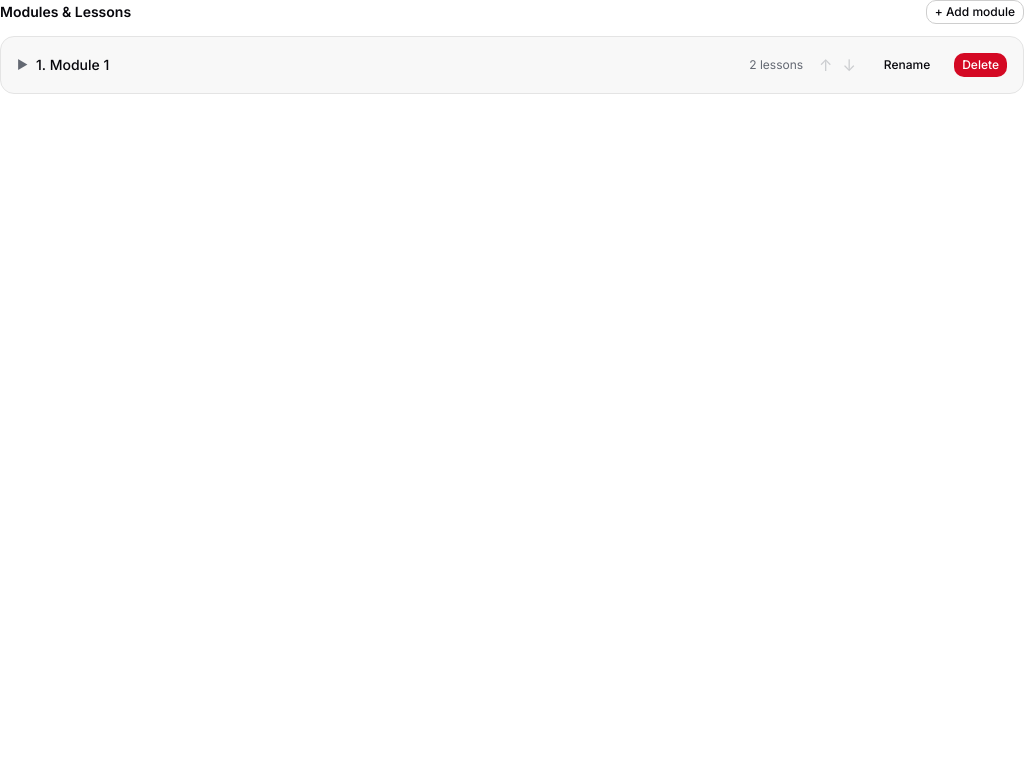
ModuleManager — existing modules › opens an edit form for a lesson when Edit is clicked
Click the text "1. Module 1" at (73, 64), box [36,56,109,73]
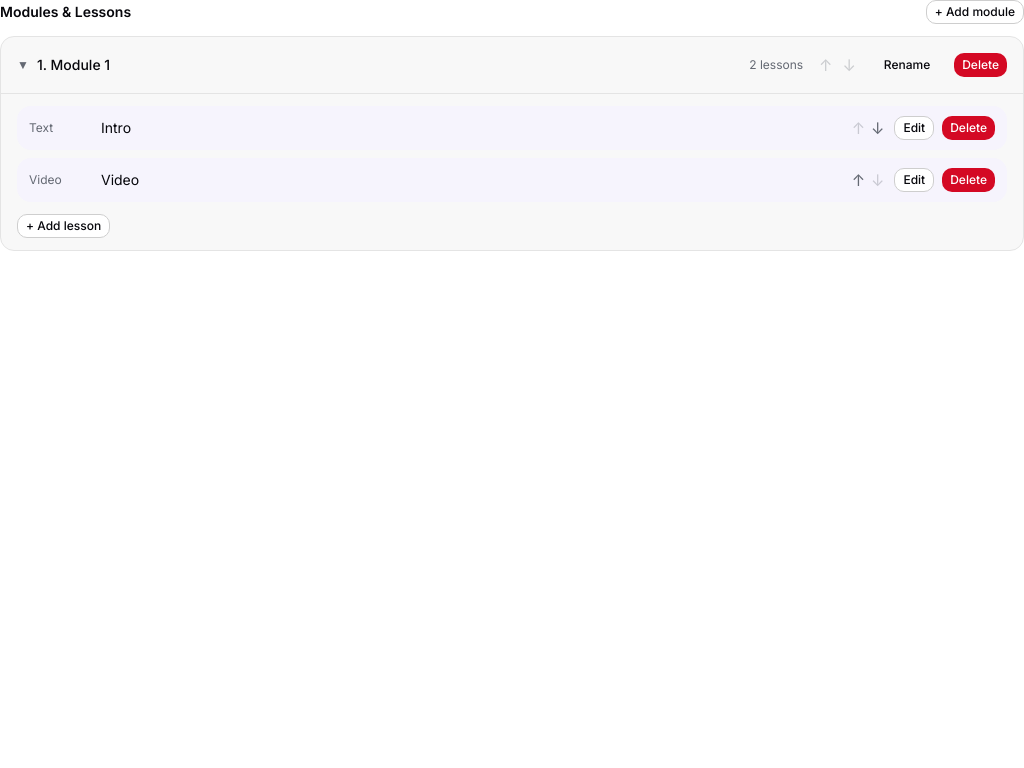
Click the edit affordance for the first lesson.
Click the button "Edit" in the row of "Intro" at (914, 128), box [894,116,934,140]
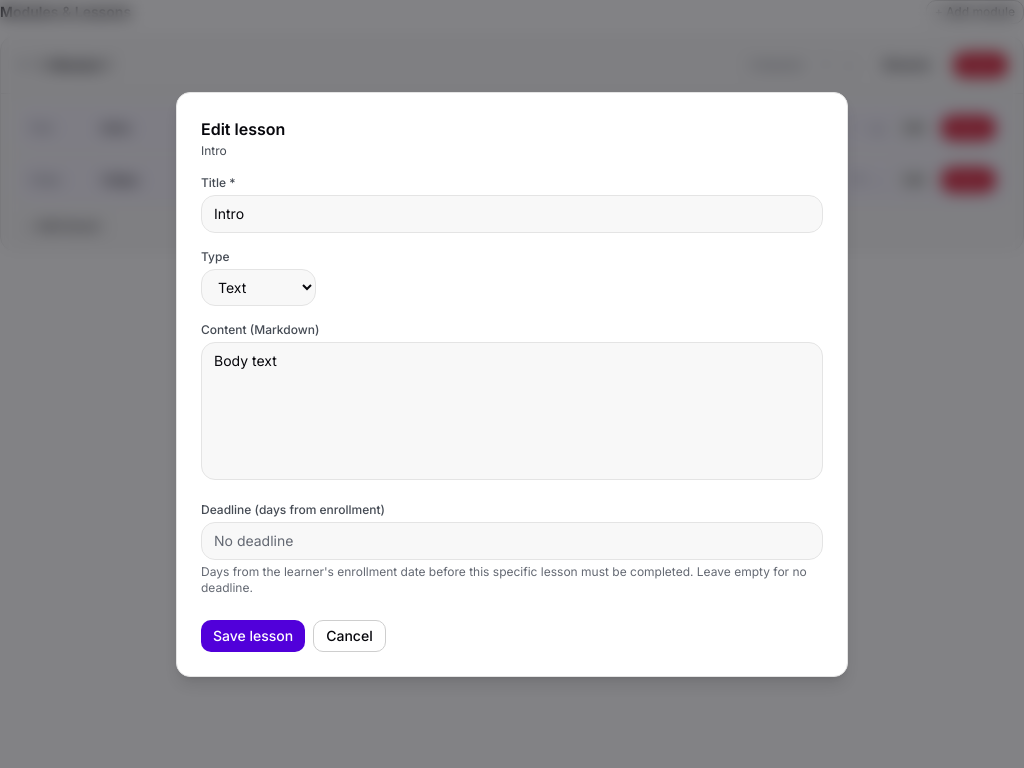
Result: the button "Save lesson" is shown at [201,620,305,652]
